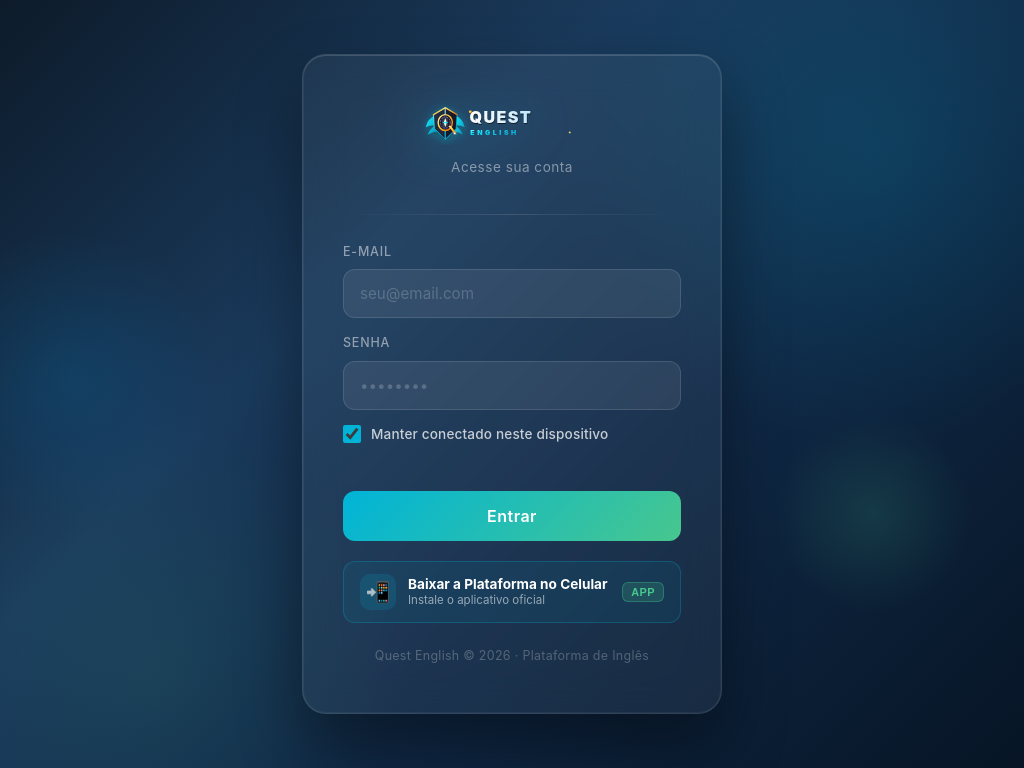
LoginPage Component › shows error on login failure
Type "test@test.com" into the field labelled "E-mail" at (512, 294), box x1=343 y1=270 x2=681 y2=318
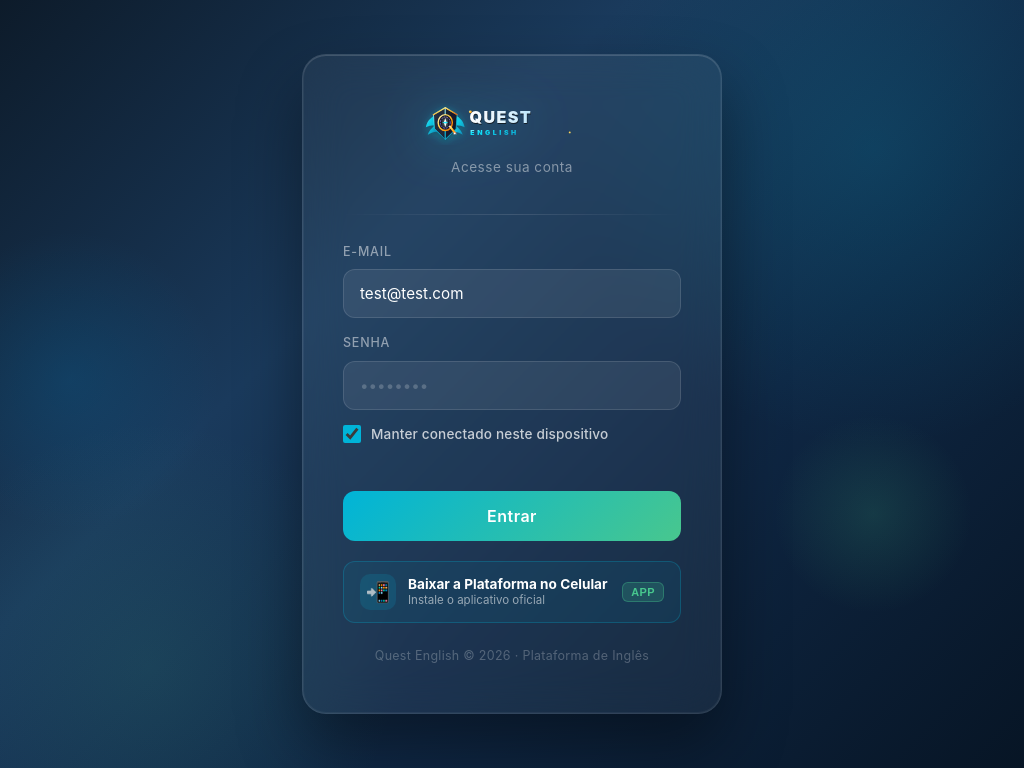
Type "password123" into the password field labelled "Senha" at (512, 386), box x1=343 y1=361 x2=681 y2=410
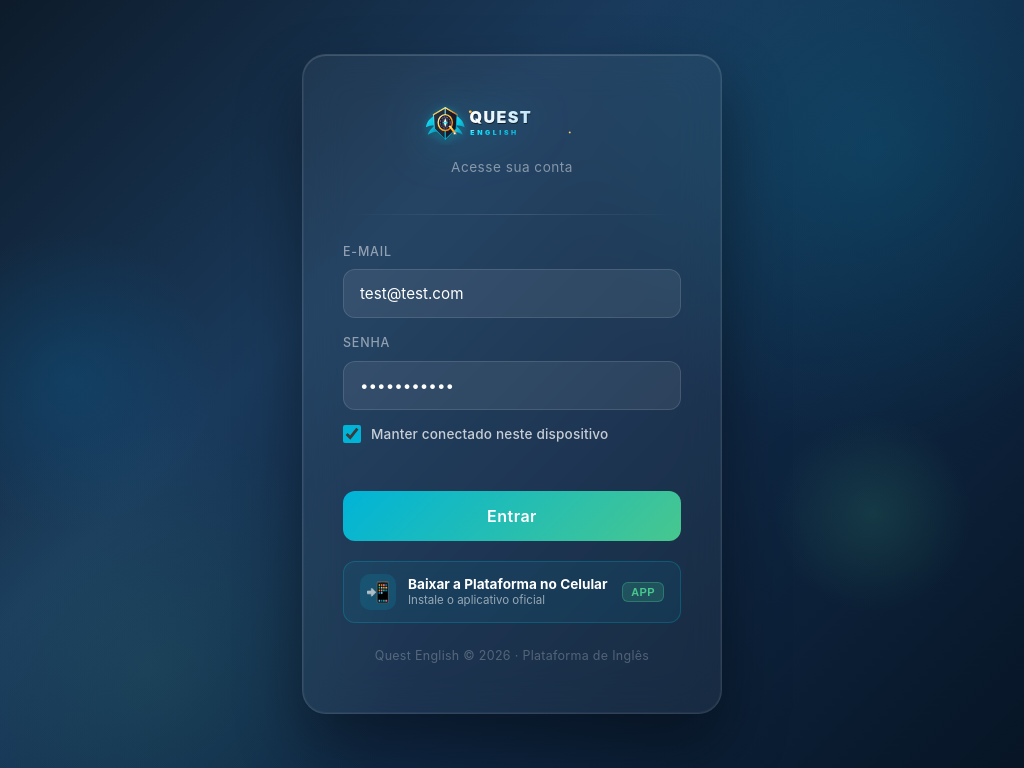
Click the button "Entrar" at (512, 516), box x1=343 y1=491 x2=681 y2=541
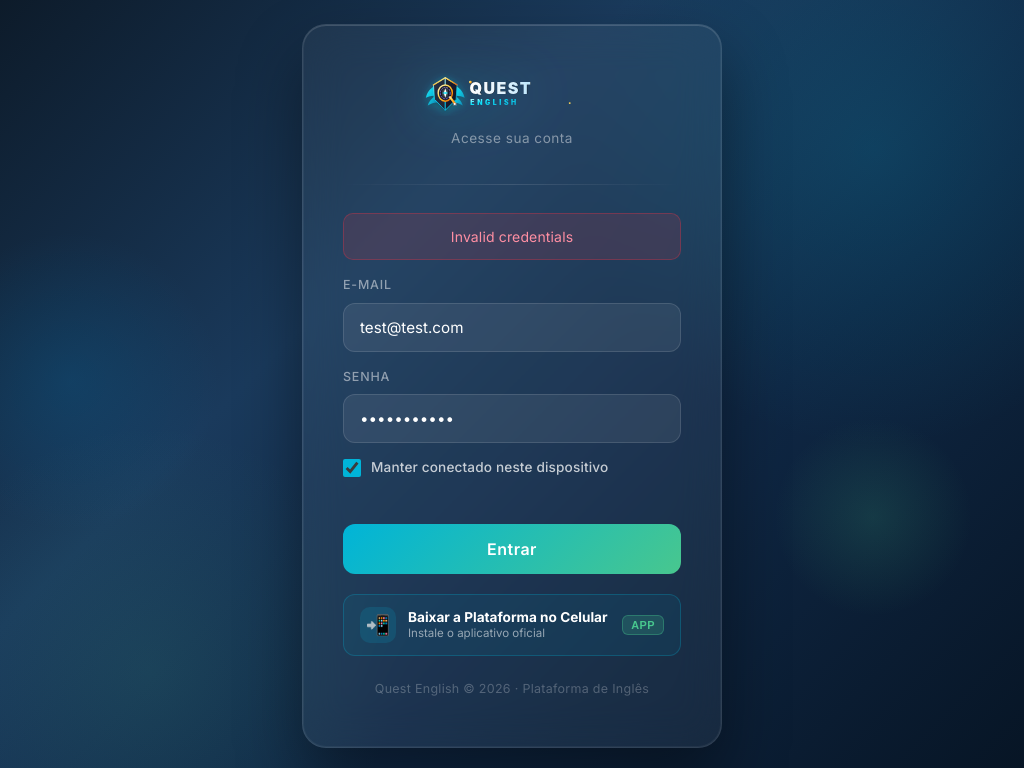
Now the text "Invalid credentials" is shown, box x1=343 y1=213 x2=681 y2=260
